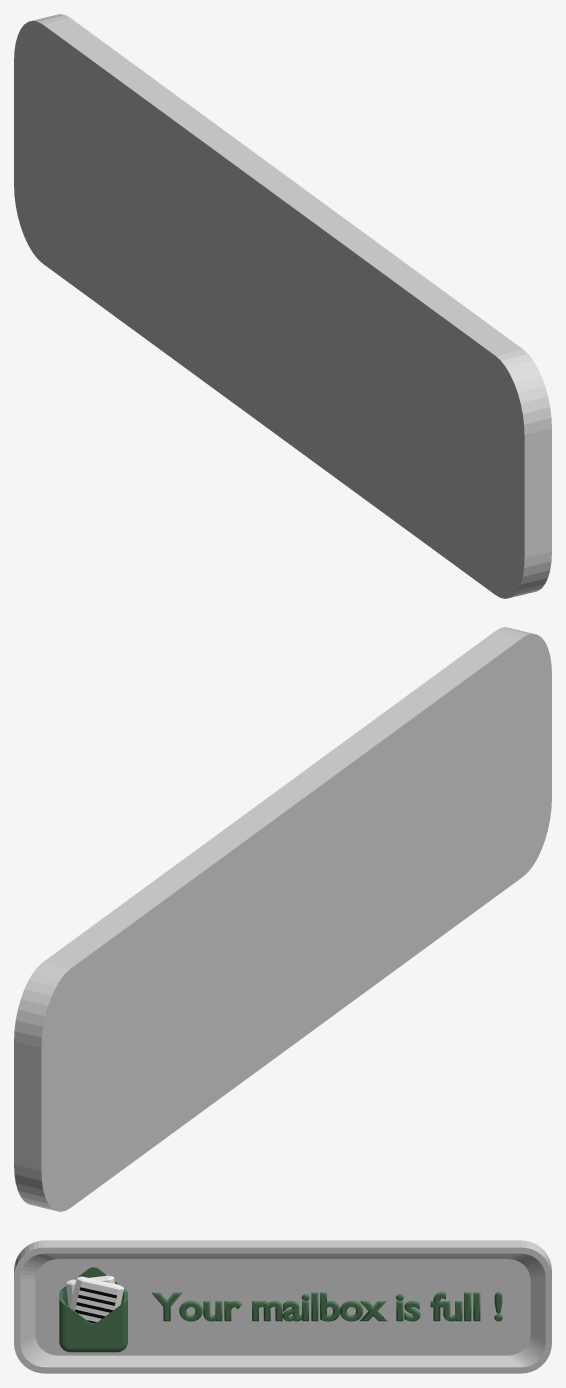
Rendered from MailFullNotification.fbx.
3 views of the same model, one above another, from view 1: azimuth 30°, elevation 25°; view 2: azimuth 150°, elevation 25°; view 3: azimuth 270°, elevation 25° (orthographic). The views are drawn at different scales.
Visible parts, largest first — view 1: MailNotificationBox; view 2: MailNotificationBox; view 3: MailNotificationBox, MailText, MailBoxIcon.
Boxes of the visible parts, x1,y1,x2,y2 form: MailNotificationBox: (14, 14, 551, 598); MailNotificationBox: (14, 627, 551, 1211); MailNotificationBox: (14, 1240, 551, 1373); MailText: (151, 1292, 502, 1321); MailBoxIcon: (59, 1267, 127, 1352).
Size of the model in its own units: 83.32 by 361 by 1396.
